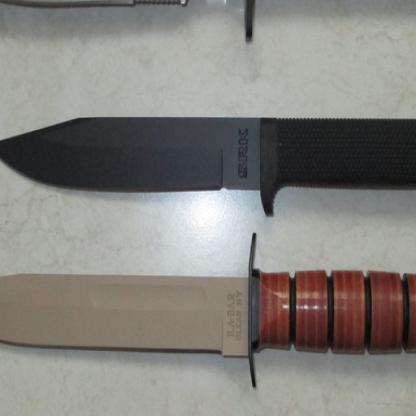knife: (0, 228, 415, 392), (0, 109, 415, 218)
